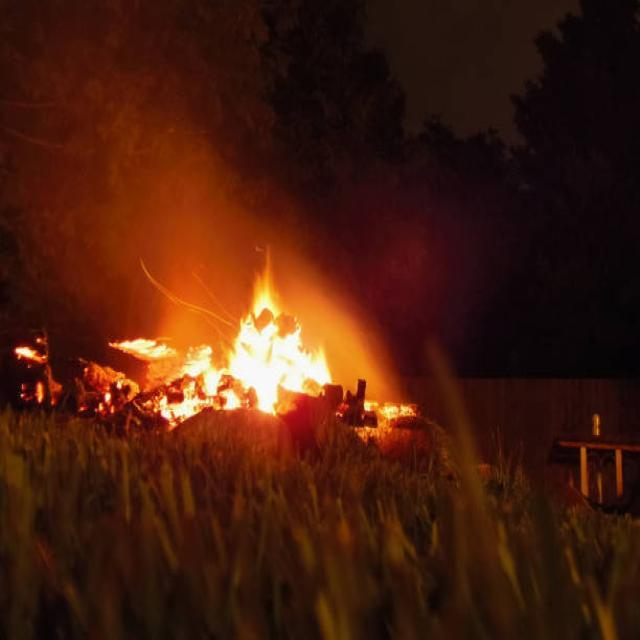Fire: (102, 265, 332, 420)
